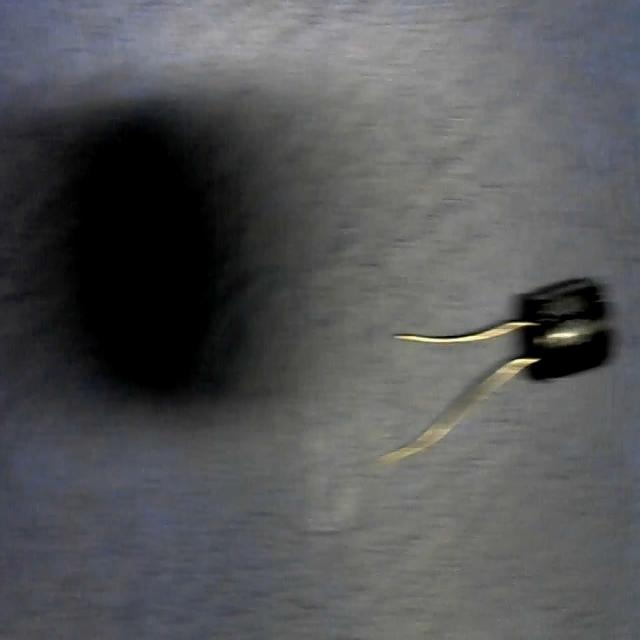capacitor: (381, 285, 612, 458)
